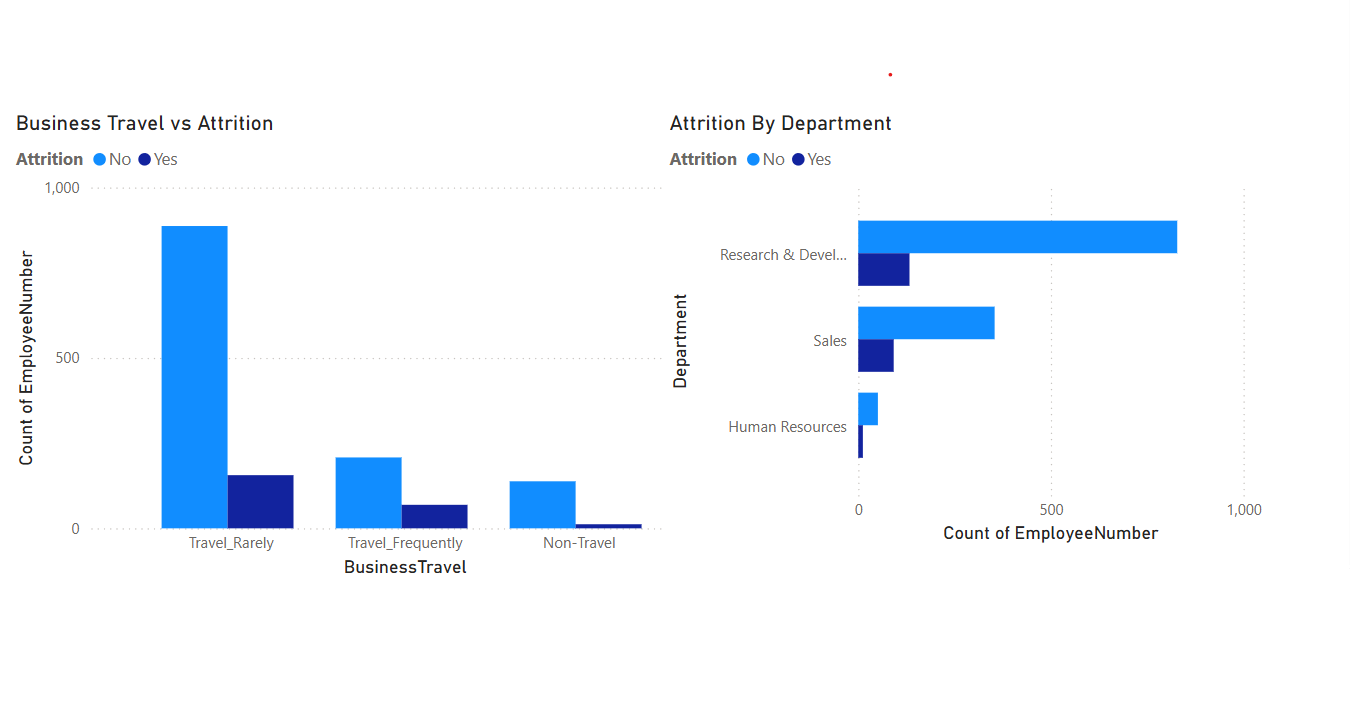

The page's visual inventory and layout, read from the dashboard file:
{"tool":"powerbi","page":{"name":"Page 3","canvas":[1280,720],"ordinal":2},"visuals":[{"type":"clusteredColumnChart","title":"Business Travel vs Attrition","fields":{"Category":["HR Employee Attrition.BusinessTravel"],"Y":["CountNonNull(HR Employee Attrition.EmployeeNumber)"],"Series":["HR Employee Attrition.Attrition"]},"box":[8,89,572,379],"z":0},{"type":"clusteredBarChart","title":"Attrition By Department","fields":{"Category":["HR Employee Attrition.Department"],"Y":["Count(HR Employee Attrition.EmployeeNumber)"],"Series":["HR Employee Attrition.Attrition"]},"box":[531,89,484,352],"z":1}]}

Visuals, with their boxes on the page's 1280x720 design canvas (x1, y1, x2, y2). These are canvas units, not pixel positions in the 1350x709 screenshot, which may show the page scaled, cropped or inside an application window:
"Business Travel vs Attrition" clusteredColumnChart: 8:89:580:468
"Attrition By Department" clusteredBarChart: 531:89:1015:441
